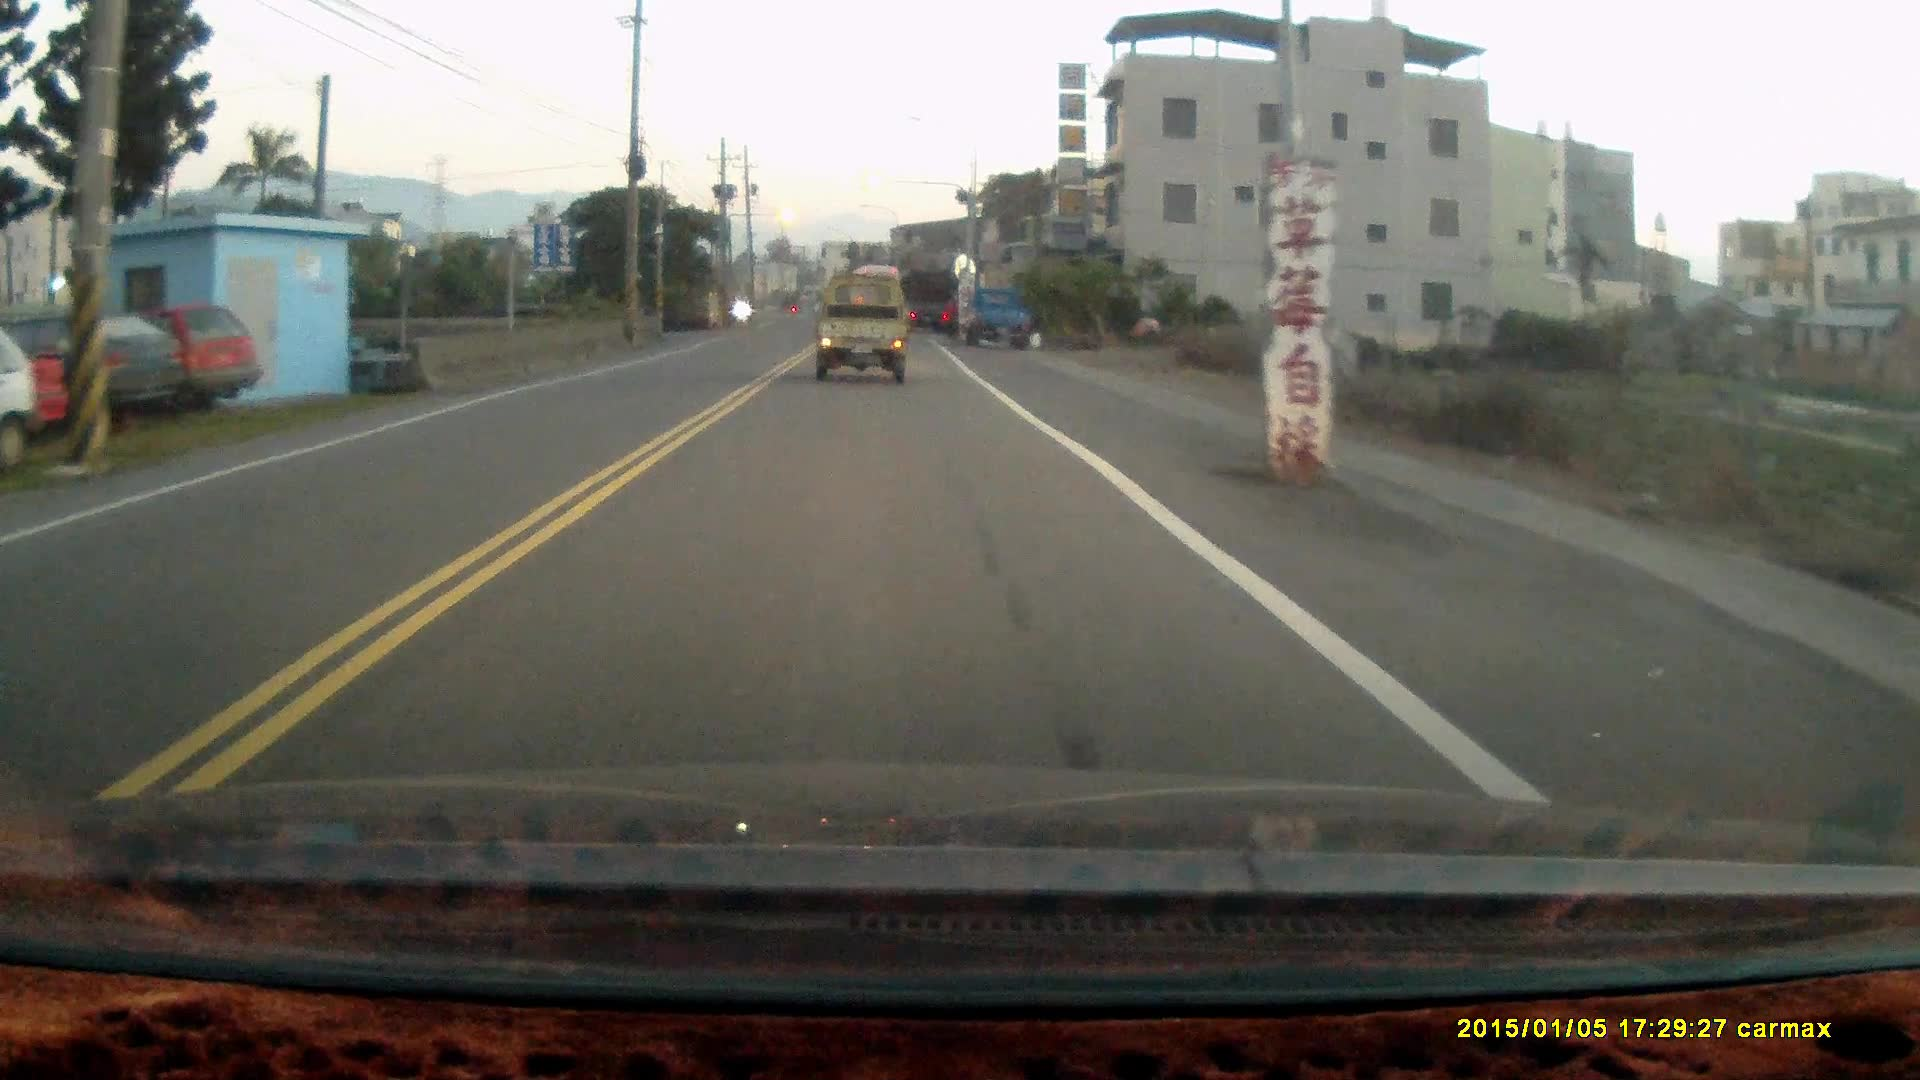vehicle: (7, 303, 195, 431), (36, 299, 249, 409), (815, 276, 915, 378), (1, 313, 44, 471), (961, 287, 1039, 349), (899, 269, 960, 335)
